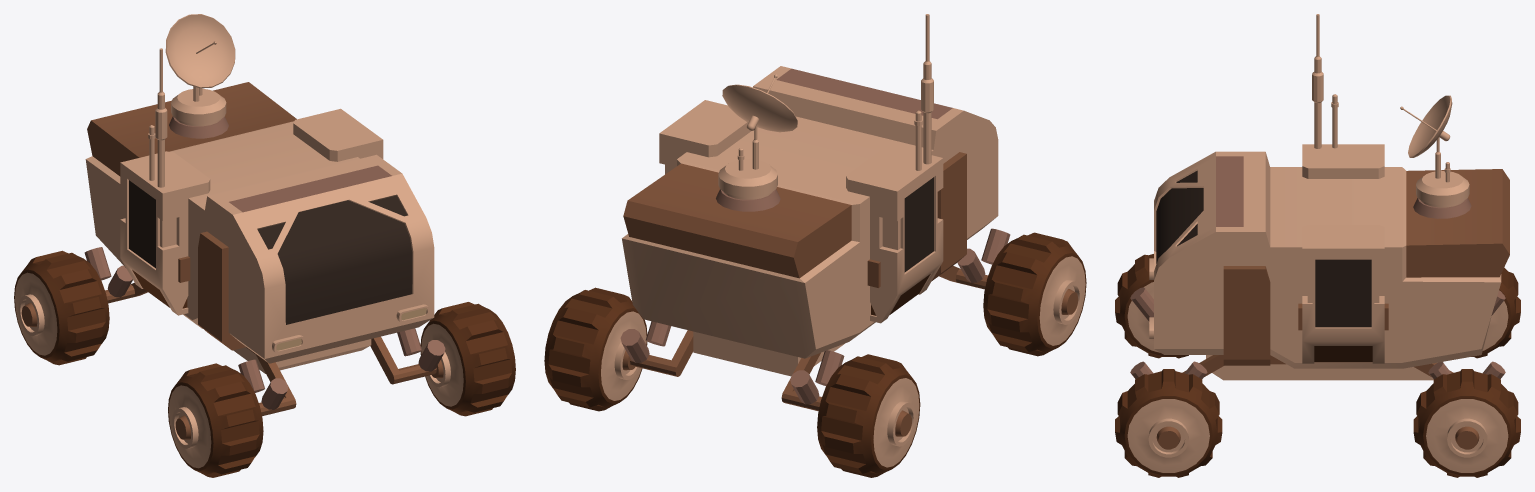
The model's file is n_rover_1.glb.
3 views of the same model, side by side, from view 1: azimuth 30°, elevation 25°; view 2: azimuth 150°, elevation 25°; view 3: azimuth 270°, elevation 25° (orthographic). The views are drawn at different scales.
Visible parts, largest first — view 1: Wheel_1; view 2: Wheel_1; view 3: Wheel_1.
Boxes of the visible parts, box(x1,y1,x2,y2) form: Wheel_1: box(14, 14, 515, 477); Wheel_1: box(544, 14, 1086, 477); Wheel_1: box(1115, 14, 1520, 477).
Bounding box in the file's own units: 4.58 × 4.88 × 5.16.
Materials: 1 (1 with a texture image).
